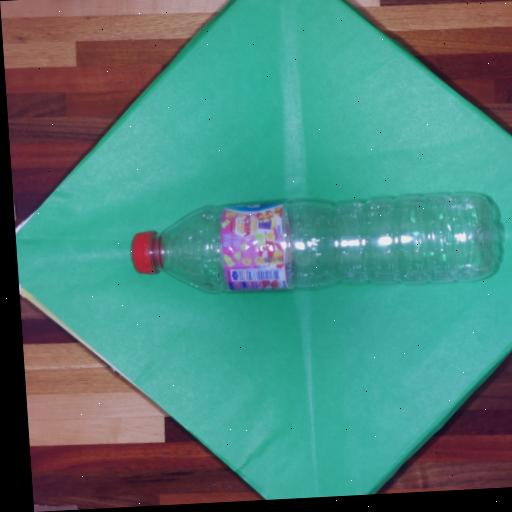bottle: (132, 192, 497, 291)
